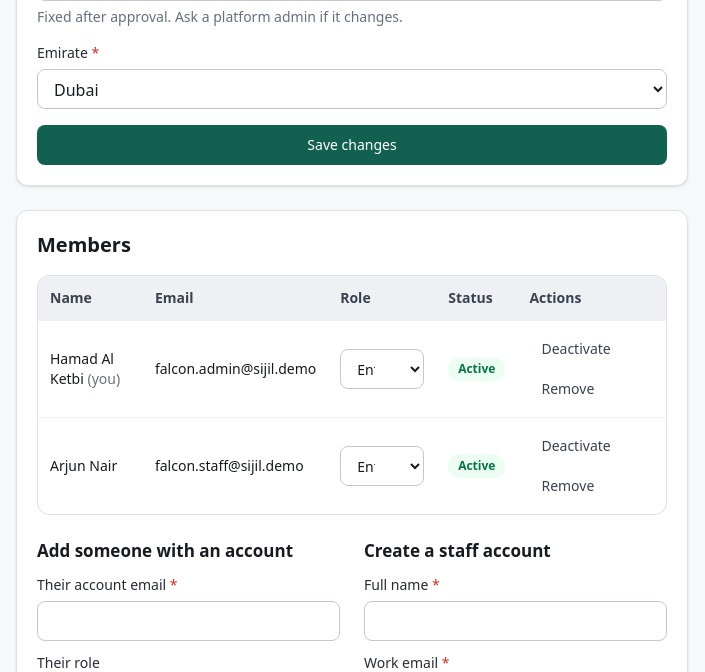
Test case: members panel › explains why the last entity admin cannot step down
The width and height of the screenshot is (705, 672).
(page scrolled)
Click the button with aria-label "Deactivate Hamad Al Ketbi" at [576, 349], box [529,333,623,365]
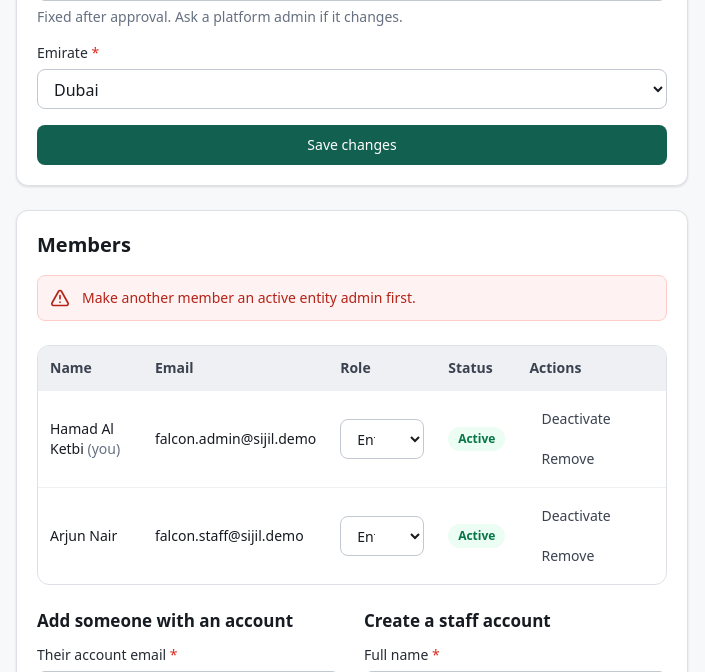
expect the text "Make another member an active entity admin first." is shown: met, box [82,288,416,307]
